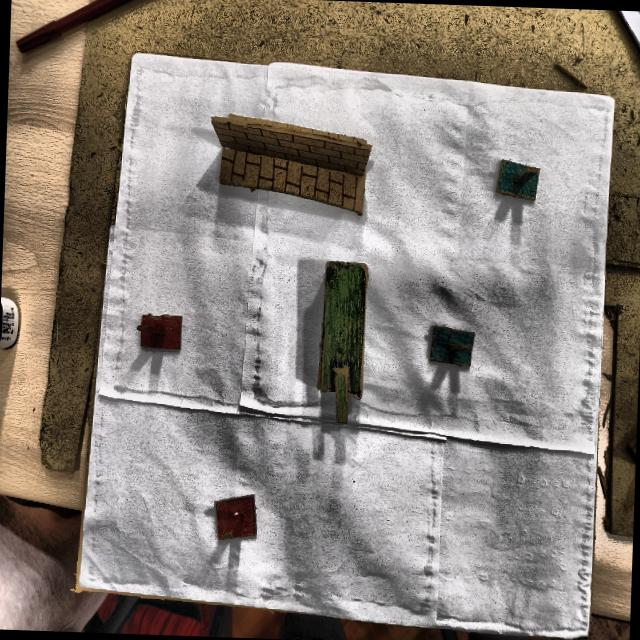Tank: (317, 262, 368, 422)
Wall: (210, 116, 372, 218)
enemy: (213, 492, 261, 544), (137, 313, 187, 356)
friend: (428, 324, 478, 371), (495, 159, 541, 205)
